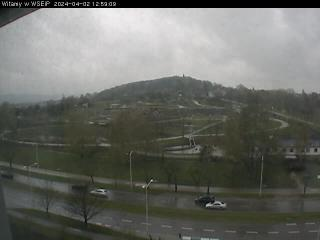car: (205, 199, 228, 210), (195, 194, 214, 204), (90, 188, 108, 198), (71, 182, 89, 191), (0, 171, 15, 180)
